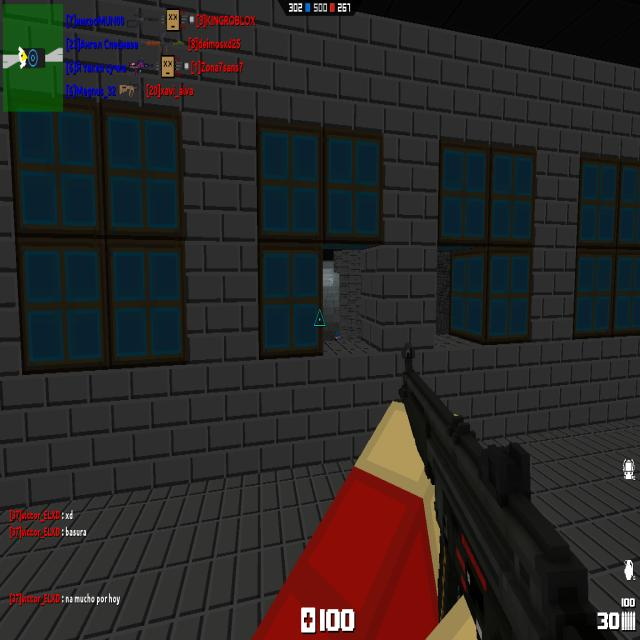enemy: (334, 330, 340, 342), (329, 274, 334, 286)
